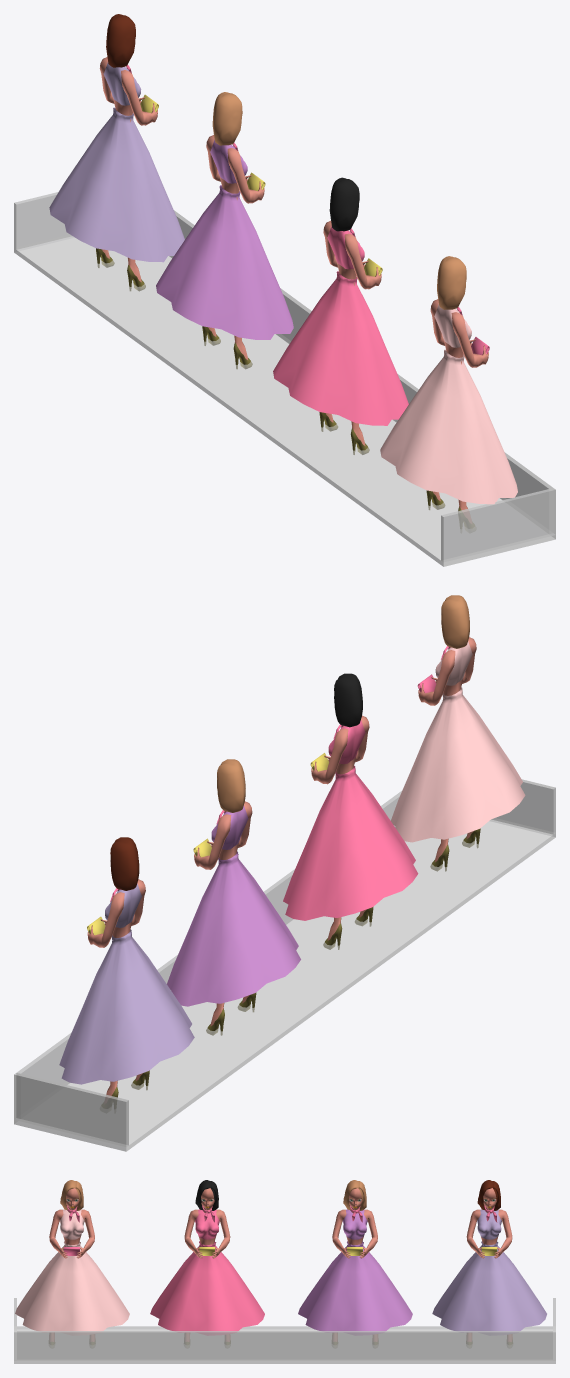
3 renders of one model, top to bottom at view 1: azimuth 30°, elevation 25°; view 2: azimuth 150°, elevation 25°; view 3: azimuth 270°, elevation 25°, orthographic. The views are drawn at different scales.
Visible parts, largest first — view 1: Mesh1_Group2_Group1_Model.002; view 2: Mesh1_Group2_Group1_Model.002; view 3: Mesh1_Group2_Group1_Model.002.
Boxes of the visible parts, x1,y1,x2,y2 form: Mesh1_Group2_Group1_Model.002: (14,14,555,566); Mesh1_Group2_Group1_Model.002: (14,595,555,1151); Mesh1_Group2_Group1_Model.002: (14,1180,555,1363).
Bounding box in the file's own units: 0.4512 × 1 × 2.98.
